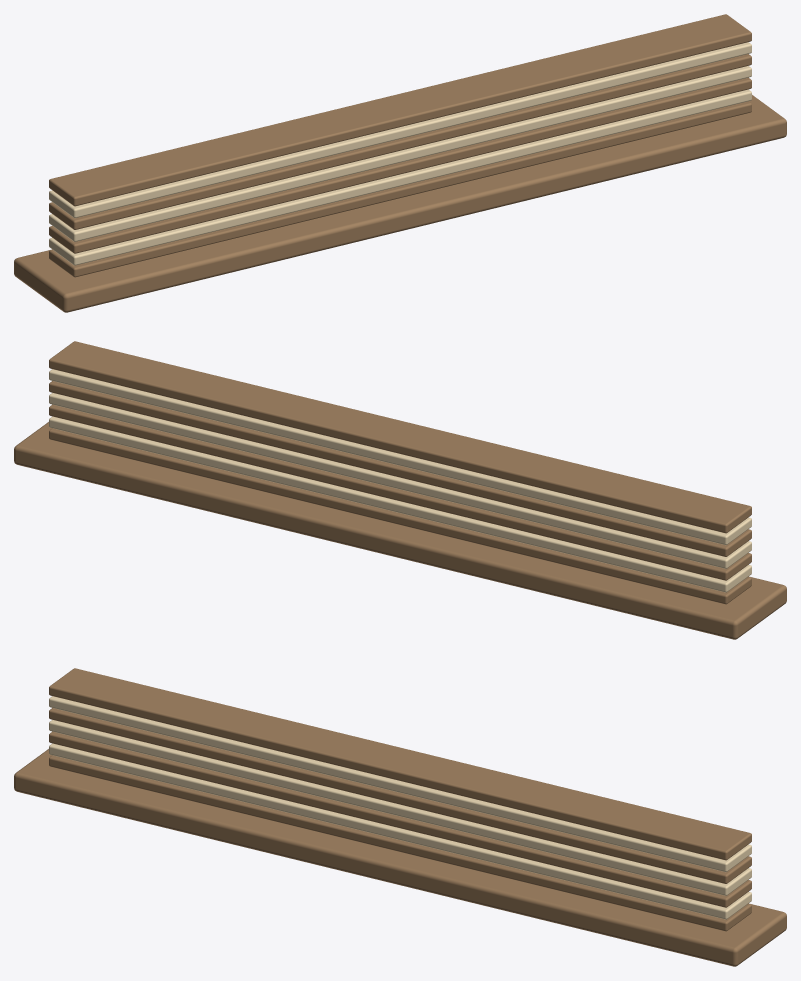
The model's file is marquetry-and-veneer-inlay-workshop-crossbanding-strip-e20fe4f6__39108.glb.
The picture shows the model from 3 angles, top to bottom: view 1: azimuth 30°, elevation 25°; view 2: azimuth 150°, elevation 25°; view 3: azimuth 330°, elevation 25°; orthographic projection.
Visible parts, largest first — view 1: crossbanding-strip-packet; view 2: crossbanding-strip-packet; view 3: crossbanding-strip-packet.
Part boxes in pixels (x1,y1,x2,y2): crossbanding-strip-packet: (14,14,786,312); crossbanding-strip-packet: (14,341,786,639); crossbanding-strip-packet: (14,668,786,966).
Size of the model in its own units: 0.32 by 0.043 by 0.04.
